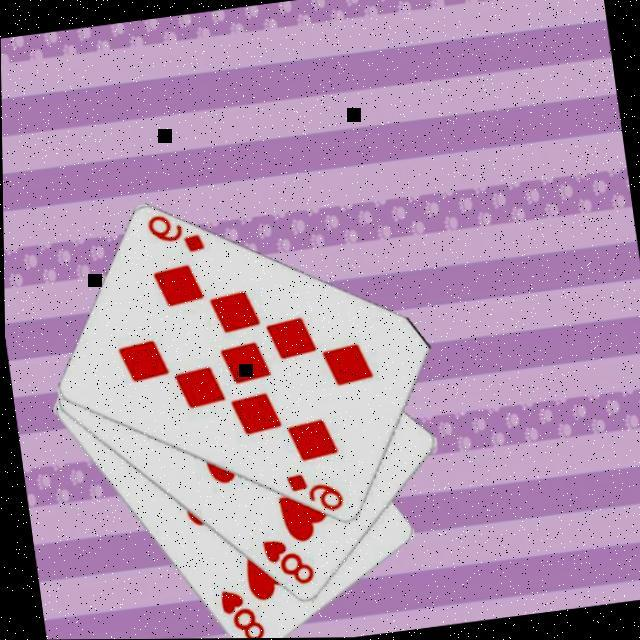8H: (254, 530, 315, 591), (212, 582, 265, 639)
9D: (279, 463, 345, 518), (140, 205, 206, 259)
